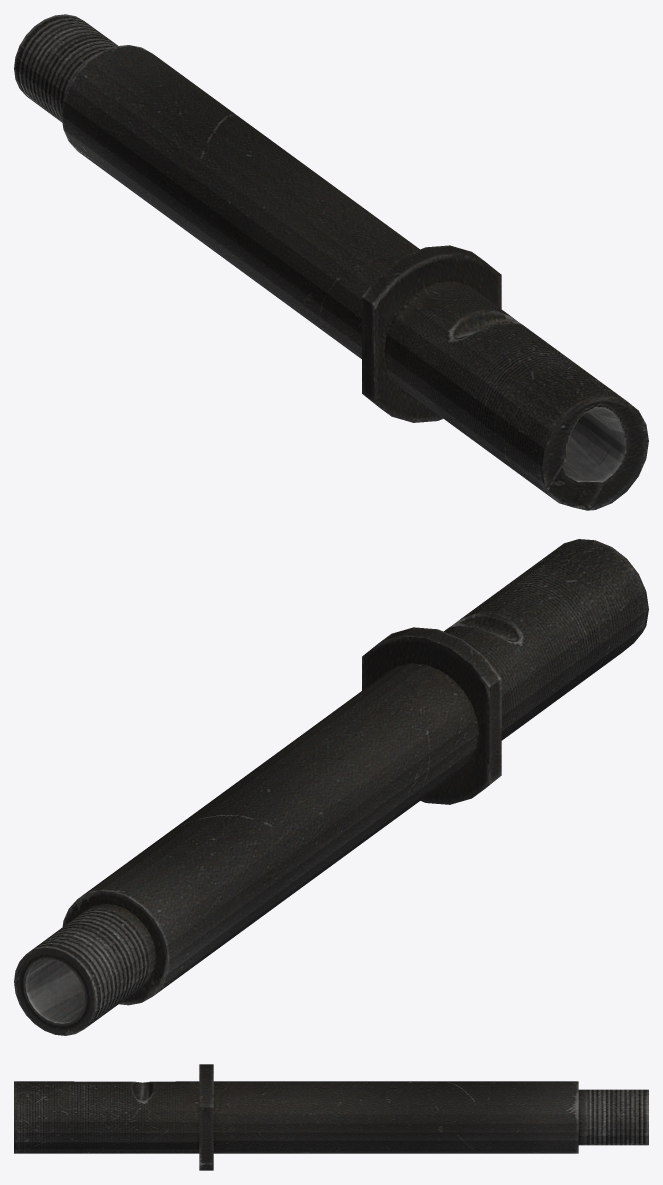
3 views of the same model, one above another, from view 1: azimuth 30°, elevation 25°; view 2: azimuth 150°, elevation 25°; view 3: azimuth 270°, elevation 25° (orthographic). The views are drawn at different scales.
Visible parts, largest first — view 1: TW_5fbbc366ca32ed67276c1557_PZ_Import; view 2: TW_5fbbc366ca32ed67276c1557_PZ_Import; view 3: TW_5fbbc366ca32ed67276c1557_PZ_Import.
Part boxes in pixels (left/top/right/bottom): TW_5fbbc366ca32ed67276c1557_PZ_Import: left=14, top=14, right=648, bottom=510; TW_5fbbc366ca32ed67276c1557_PZ_Import: left=14, top=539, right=648, bottom=1035; TW_5fbbc366ca32ed67276c1557_PZ_Import: left=14, top=1064, right=648, bottom=1170.
Size of the model in its own units: 0.0111 by 0.0817 by 0.0138.
1 material, 1 textured.
